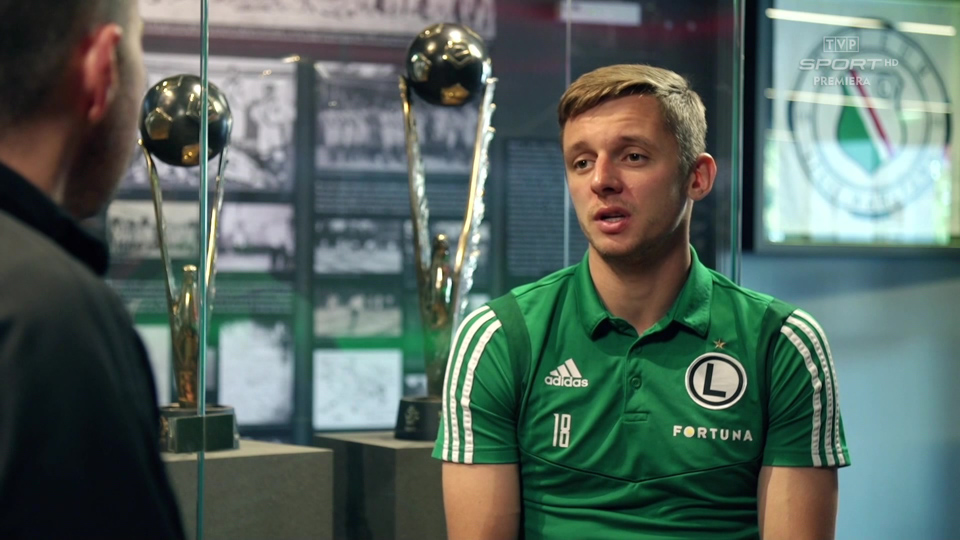Adidas: (545, 358, 589, 387)
